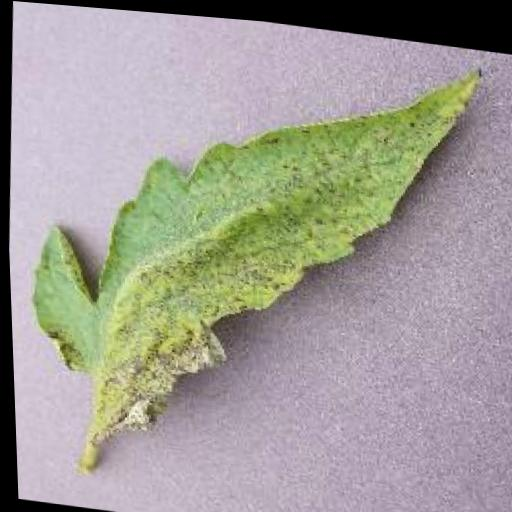Septoria: (20, 9, 499, 480)
